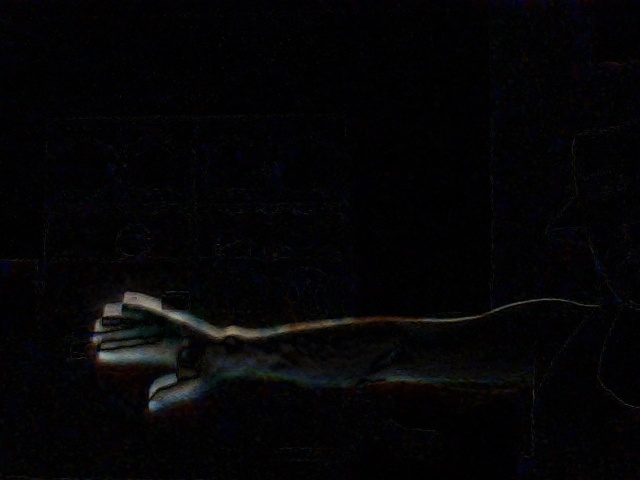hand_pa: (79, 289, 229, 410)
